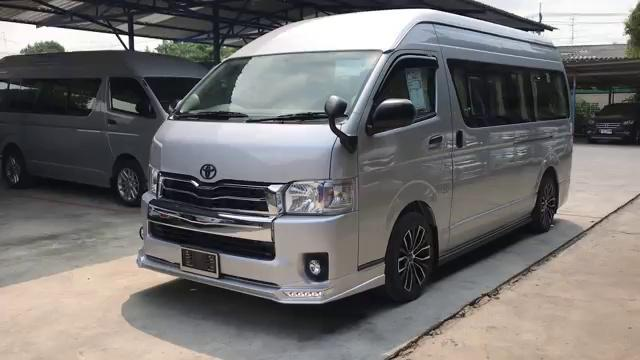Van: (141, 12, 576, 314)
